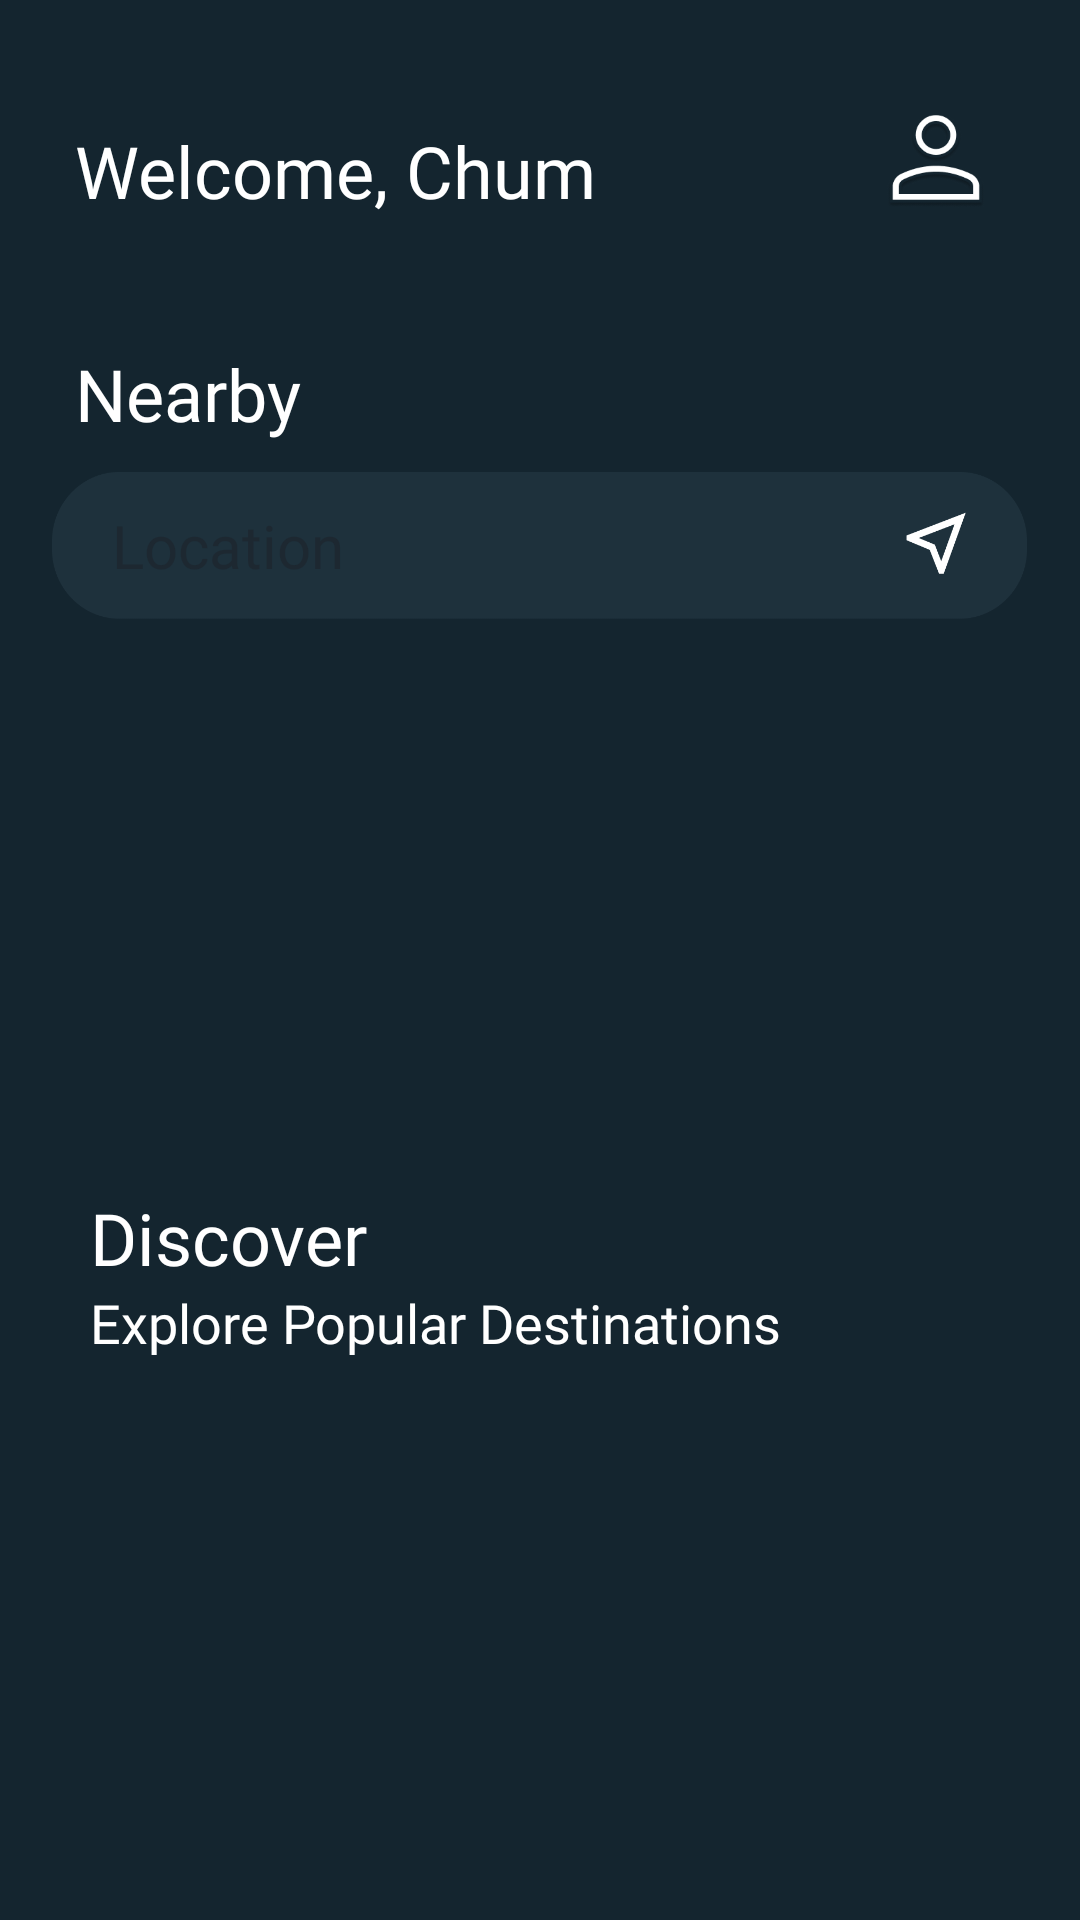

Point at icon controls on the screen. Image size 1080*1920, points as (x=x, y=y).
user: (x=936, y=157)
